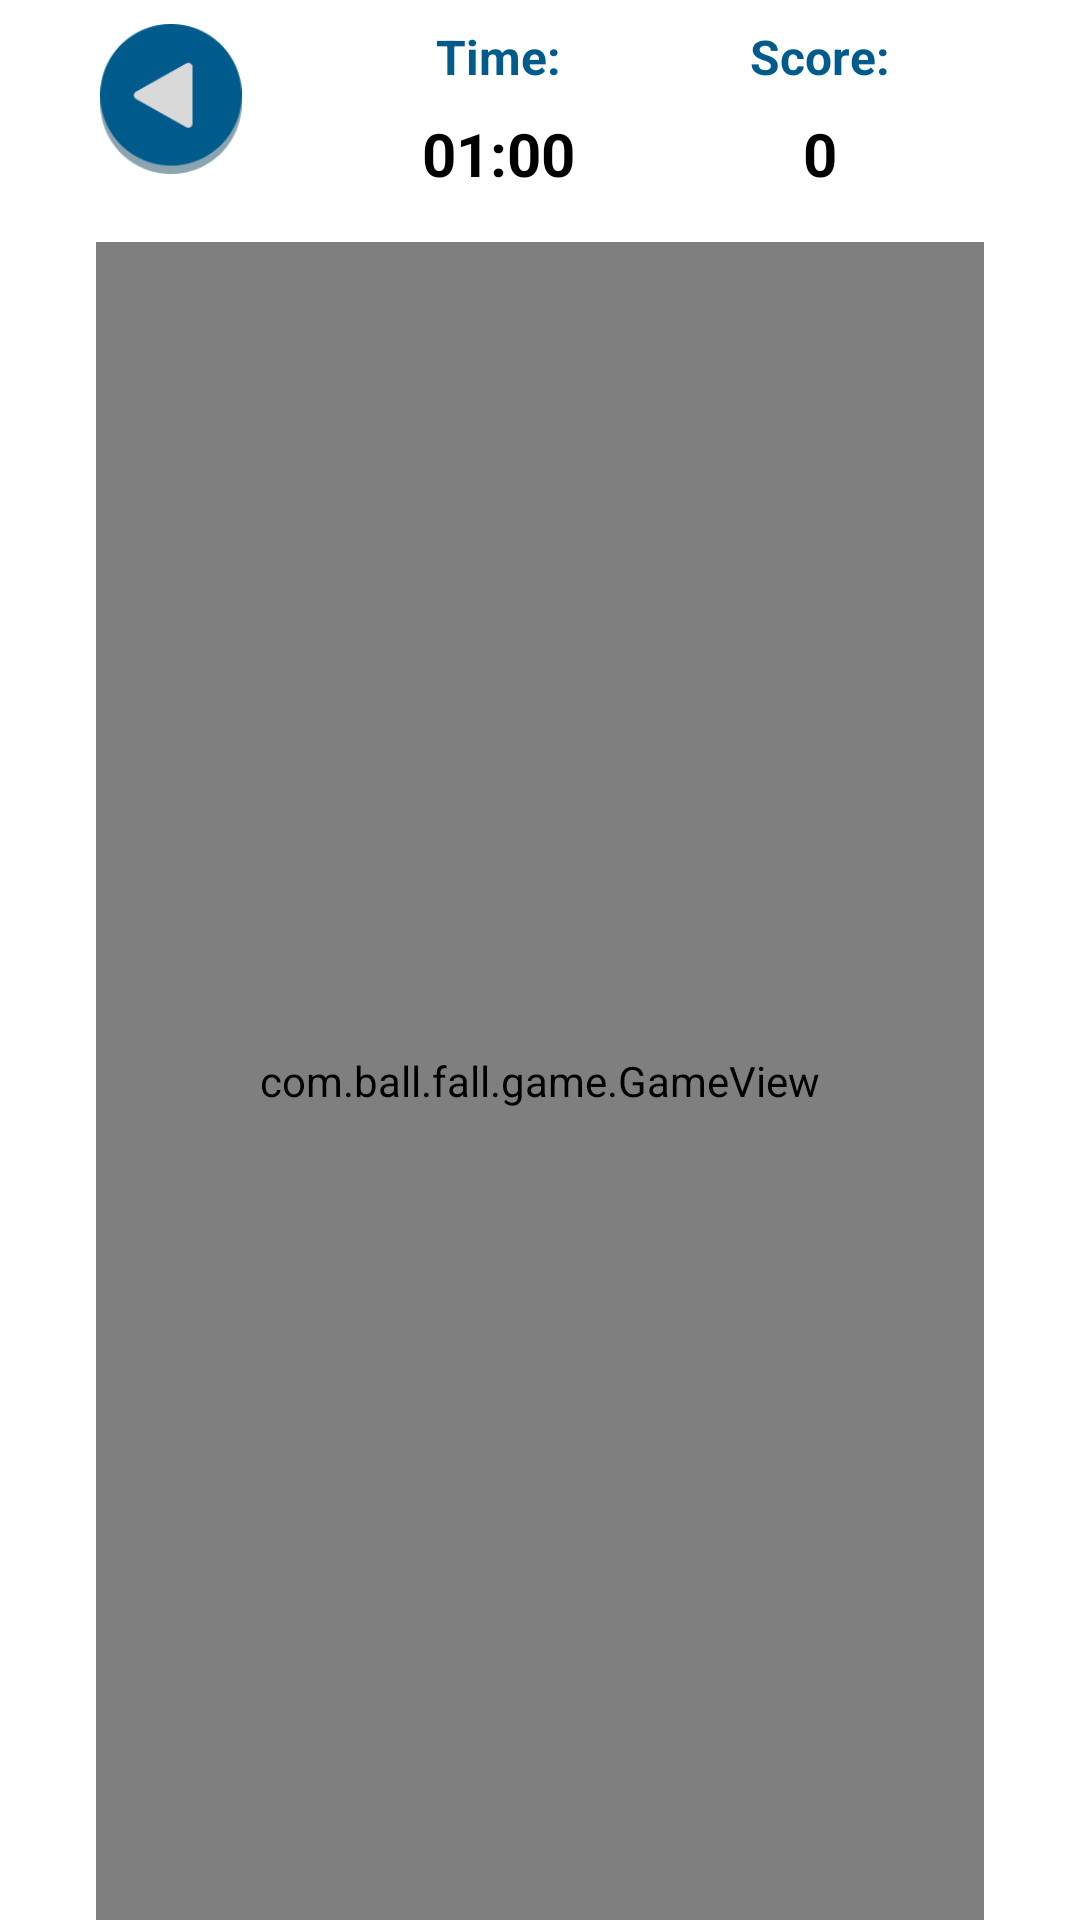

Icon bounding boxes for this 1080×1920 phone screenshot, format (x1=x1, y1=y1, x2=x2, y2=y2):
back: (x1=100, y1=24, x2=242, y2=174)
